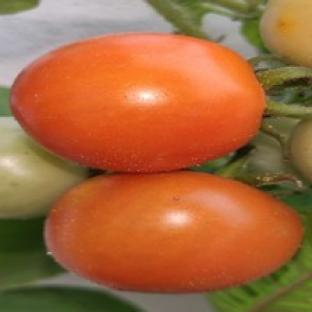Tomato: (12, 34, 266, 172), (45, 172, 302, 292), (0, 117, 87, 218), (247, 133, 292, 172), (290, 119, 311, 181)
